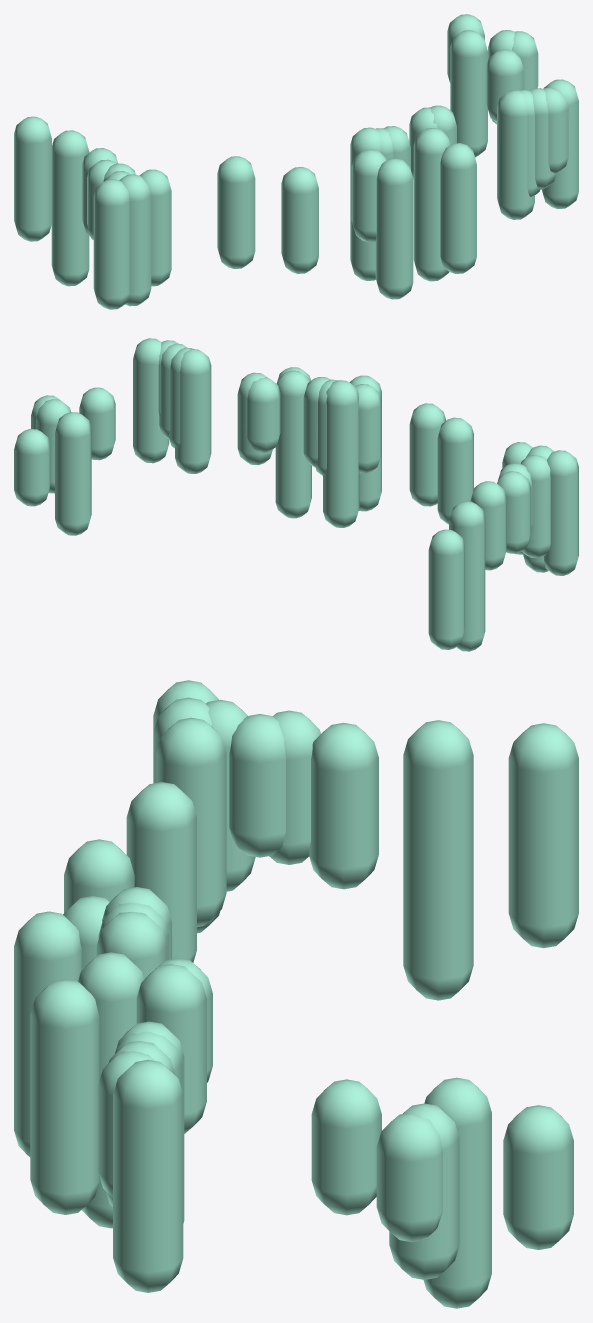
File: DECO_05.glb
3 views of the same model, one above another, from view 1: azimuth 30°, elevation 25°; view 2: azimuth 150°, elevation 25°; view 3: azimuth 270°, elevation 25° (orthographic). The views are drawn at different scales.
Visible parts, largest first — view 1: DECO_05; view 2: DECO_05; view 3: DECO_05.
Part boxes in pixels (bbox=[...]): DECO_05: bbox=[14, 14, 578, 309]; DECO_05: bbox=[14, 338, 578, 651]; DECO_05: bbox=[14, 680, 578, 1308].
Size of the model in its own units: 1 by 0.3127 by 0.542.
